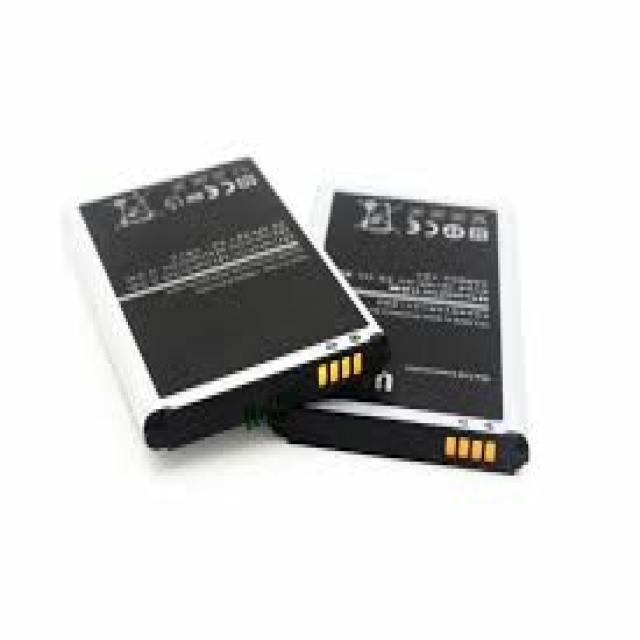battery: (73, 152, 391, 448), (266, 189, 532, 482)
